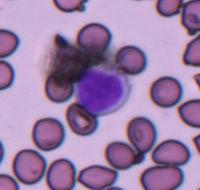L: (75, 65, 130, 116)
